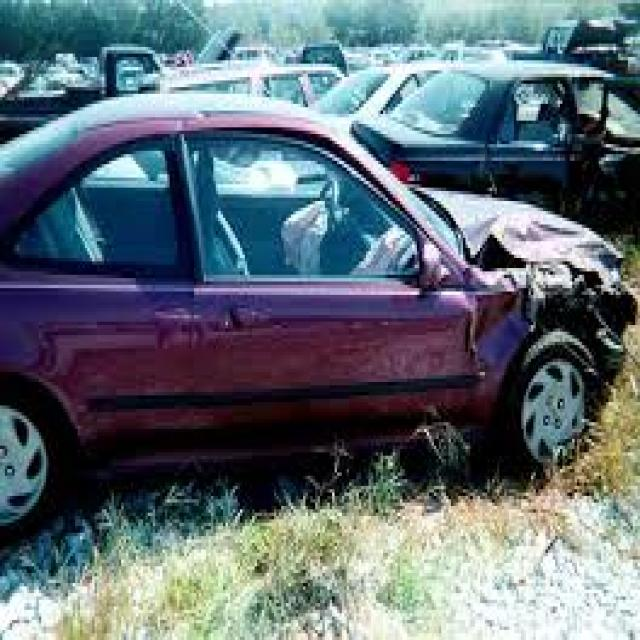moderate: (411, 200, 640, 420)
